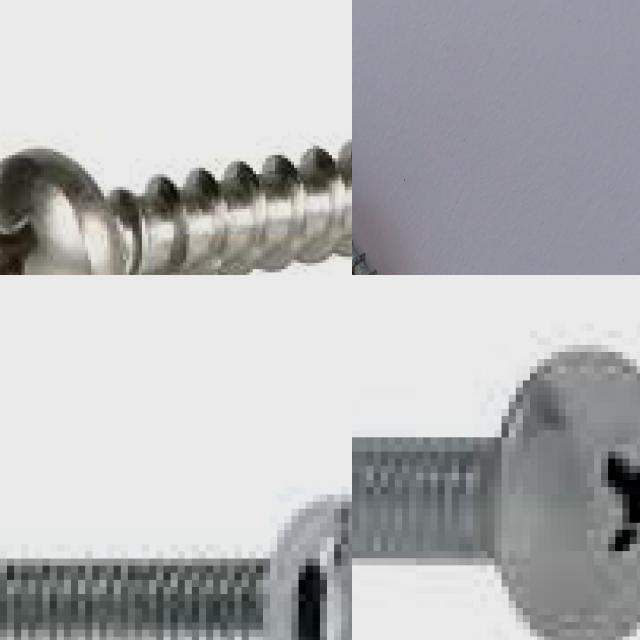Screw: (352, 345, 640, 640), (0, 502, 352, 640), (0, 139, 352, 275)
